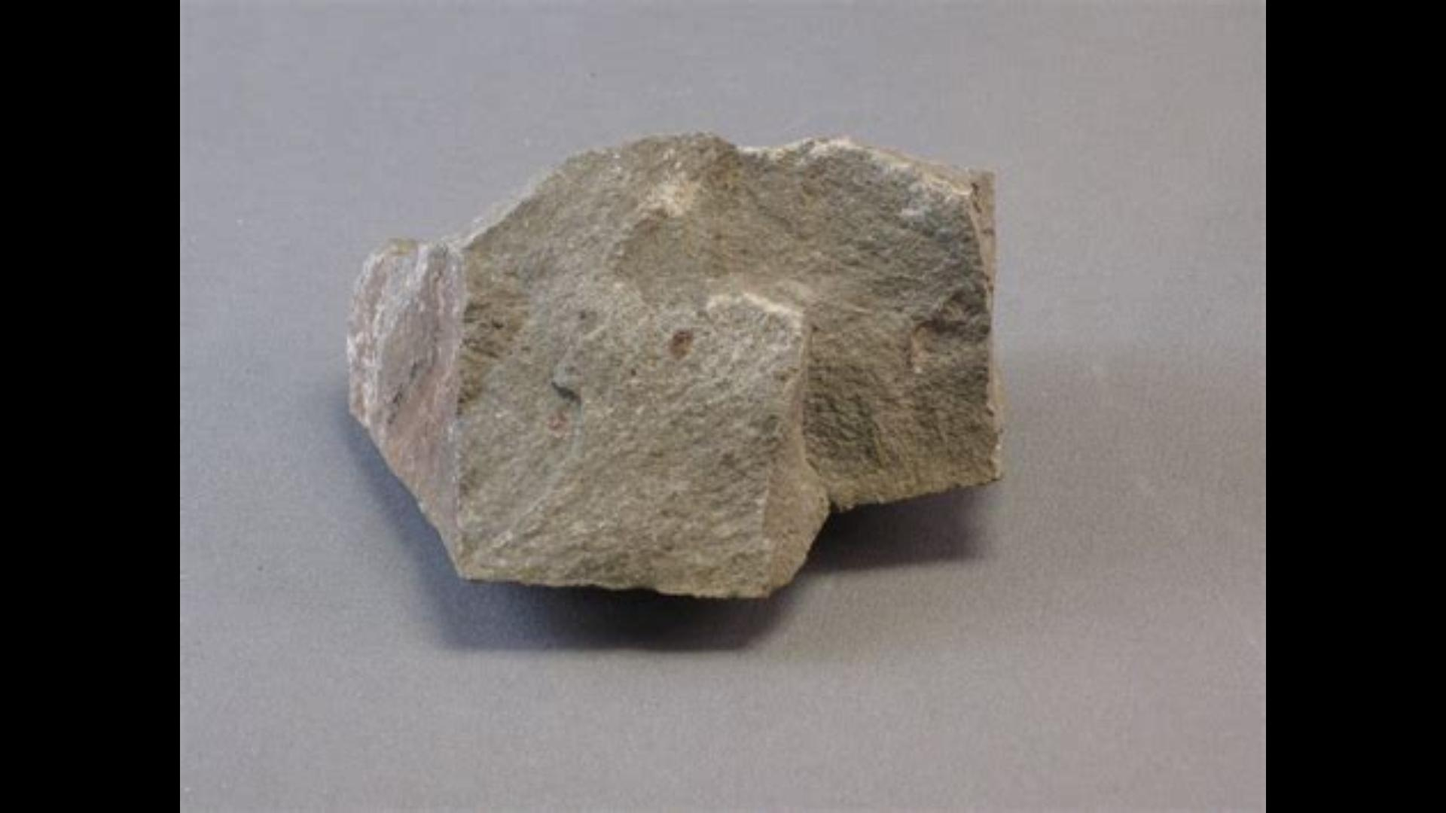rock: (350, 135, 998, 593)
